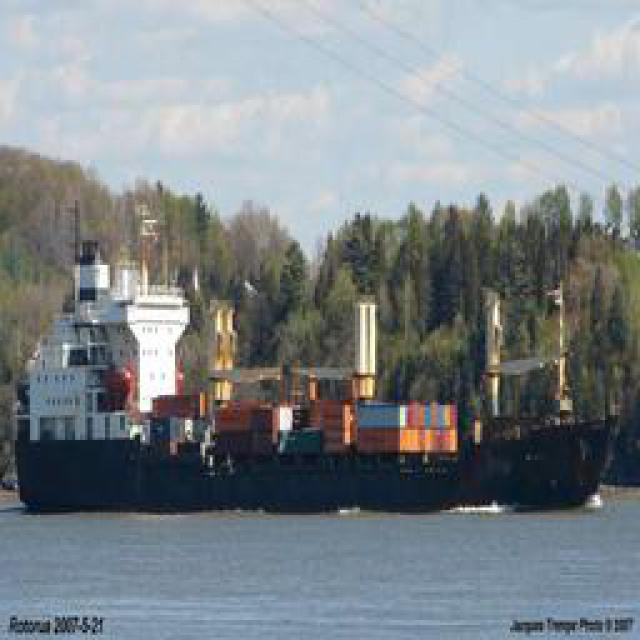Ship: (12, 230, 626, 519)
